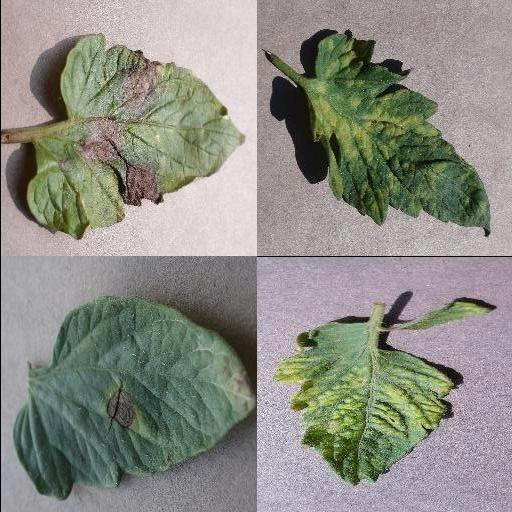Early Blight: (11, 298, 255, 502)
Late Blight: (25, 35, 243, 241)
Leaf Mold: (304, 31, 490, 238)
Mosaic Virus: (272, 320, 454, 488), (395, 299, 493, 331)
